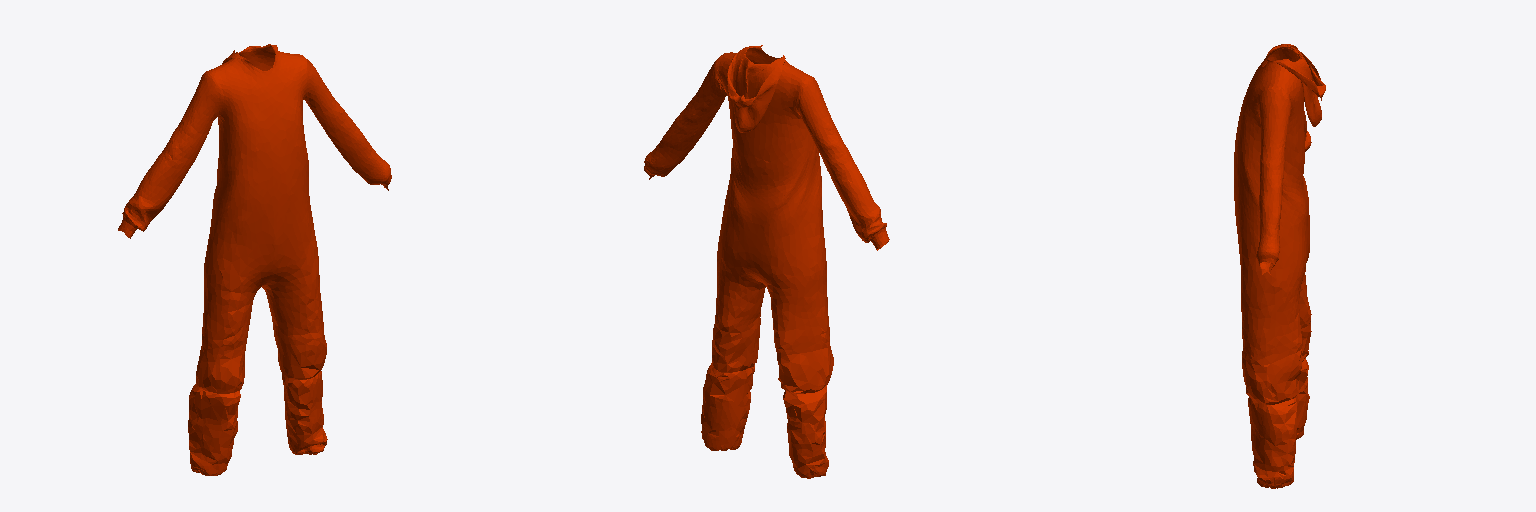
The picture shows the model from 3 angles: view 1: azimuth 30°, elevation 25°; view 2: azimuth 150°, elevation 25°; view 3: azimuth 270°, elevation 25°; orthographic projection.
Parts seen in each view (by area): view 1: 绝缘衣; view 2: 绝缘衣; view 3: 绝缘衣.
Part boxes in pixels (left/top/right/bottom): 绝缘衣: left=118, top=44, right=391, bottom=475; 绝缘衣: left=644, top=45, right=889, bottom=478; 绝缘衣: left=1234, top=44, right=1325, bottom=488.
Size of the model in its own units: 4.77 by 7.3 by 1.49.